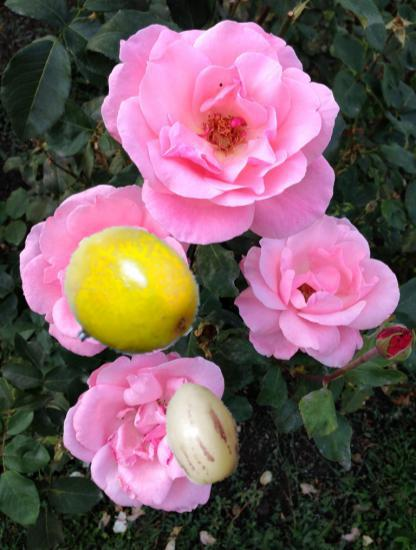Maracuja: (57, 224, 199, 366)
Pepino: (147, 378, 256, 487)
